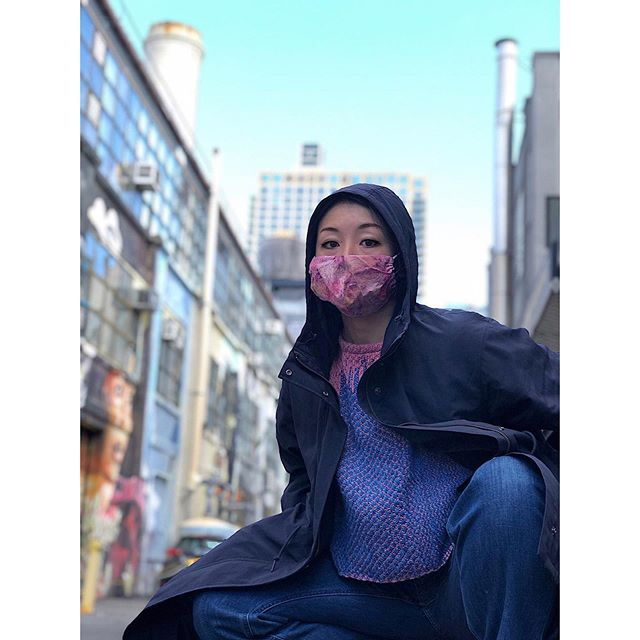homemade: (303, 254, 409, 313)
